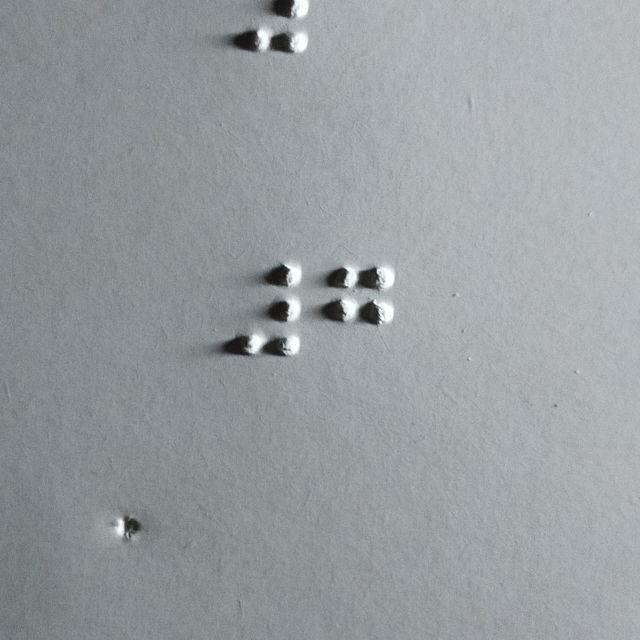7: (324, 264, 398, 362)
number: (226, 260, 300, 359)
